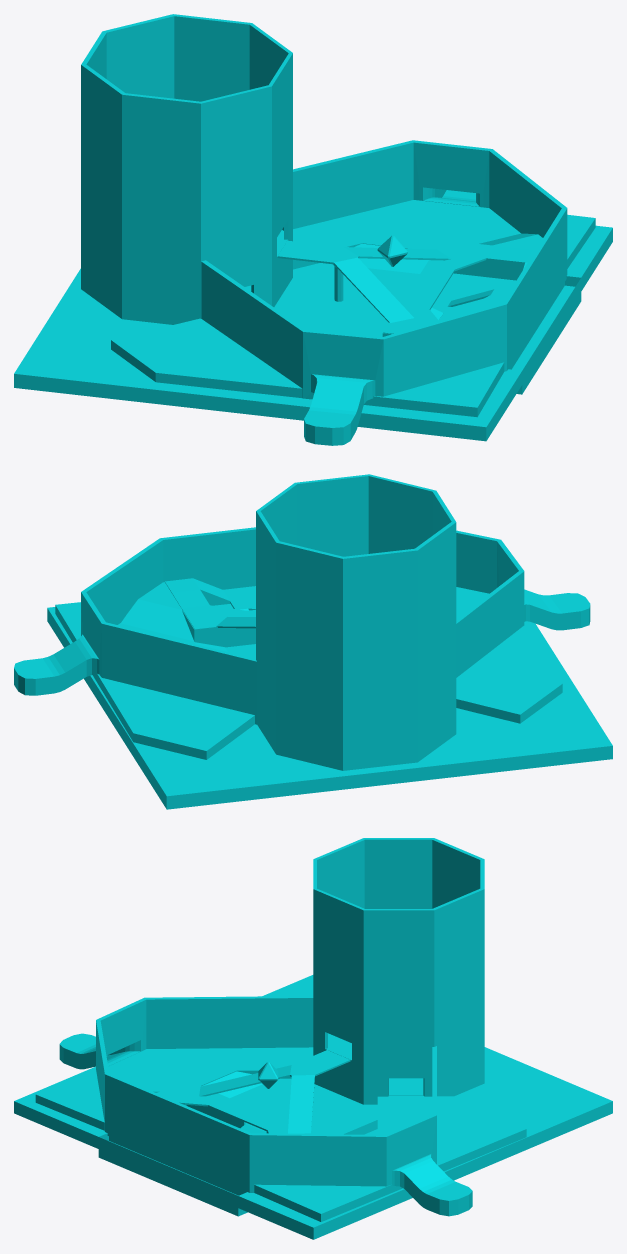
File: StadiumWhiteBlock4 1.fbx
3 views of the same model, one above another, from view 1: azimuth 30°, elevation 25°; view 2: azimuth 150°, elevation 25°; view 3: azimuth 270°, elevation 25° (orthographic). The views are drawn at different scales.
Visible parts, largest first — view 1: Circle; view 2: Circle; view 3: Circle.
Boxes of the visible parts, x1,y1,x2,y2 form: Circle: (14, 14, 612, 445); Circle: (14, 474, 612, 809); Circle: (14, 838, 612, 1239).
Bounding box in the file's own units: 34959 × 13846 × 34959.
